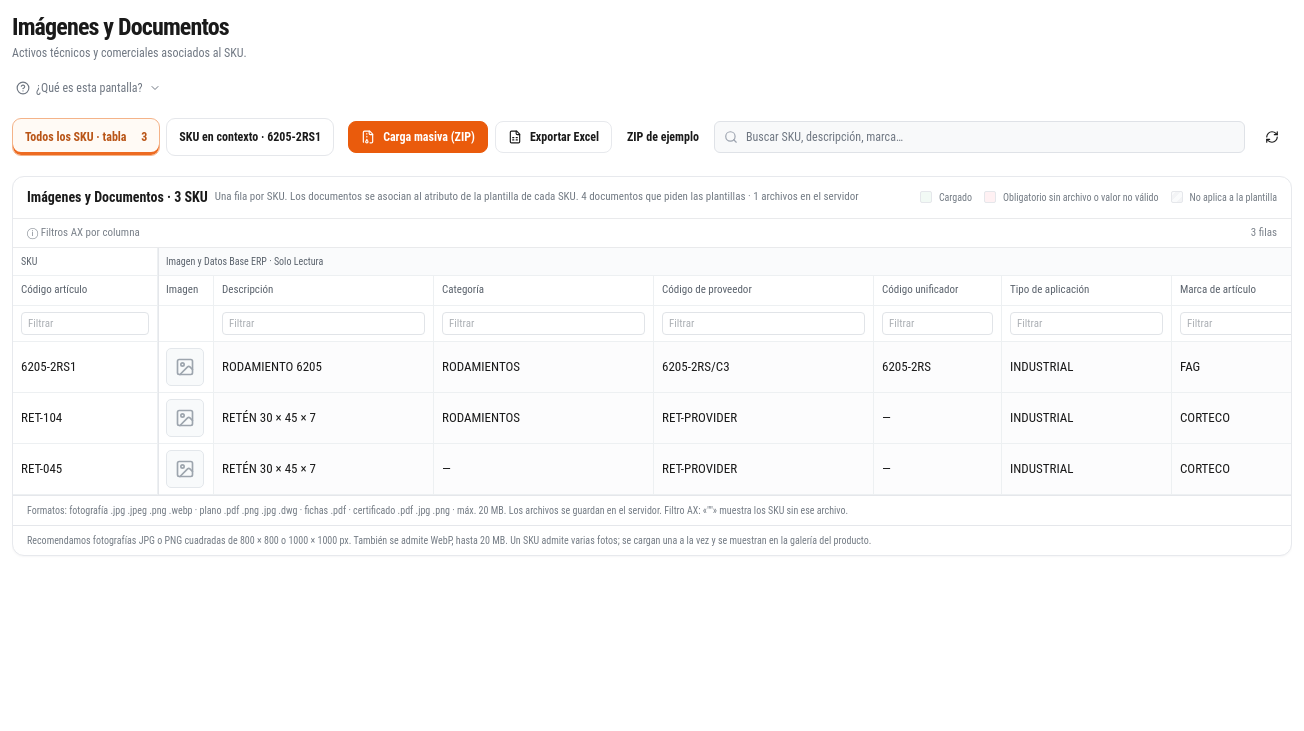
Test: DocumentsWorkspace › switches table and contextual slots without discarding the selected SKU or making extra catalog requests
Step 1. Click the tab "SKU en contexto · 6205-2RS1" → (250, 136), box x1=166 y1=118 x2=334 y2=156
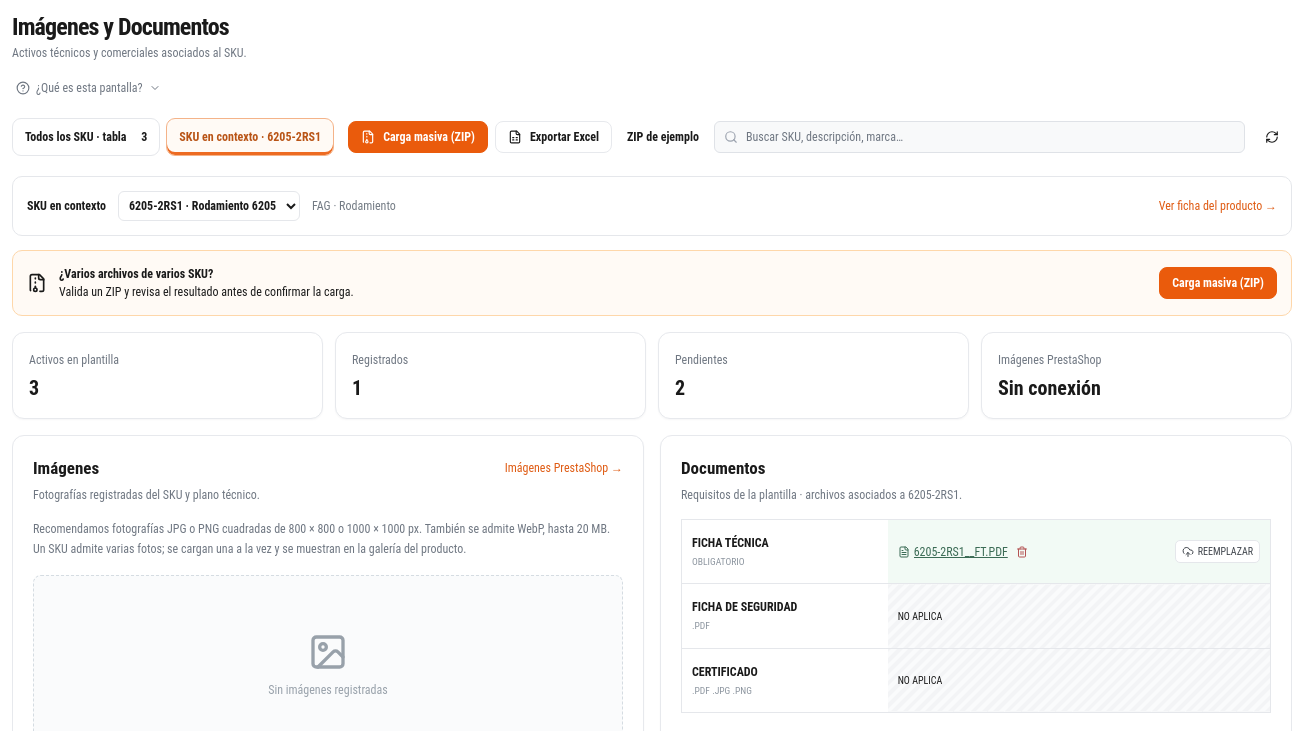
Step 2. Select "RET-104 · Retén 30 × 45 × 7" in the dropdown labelled "SKU en contexto" → (209, 206), box x1=118 y1=190 x2=300 y2=220
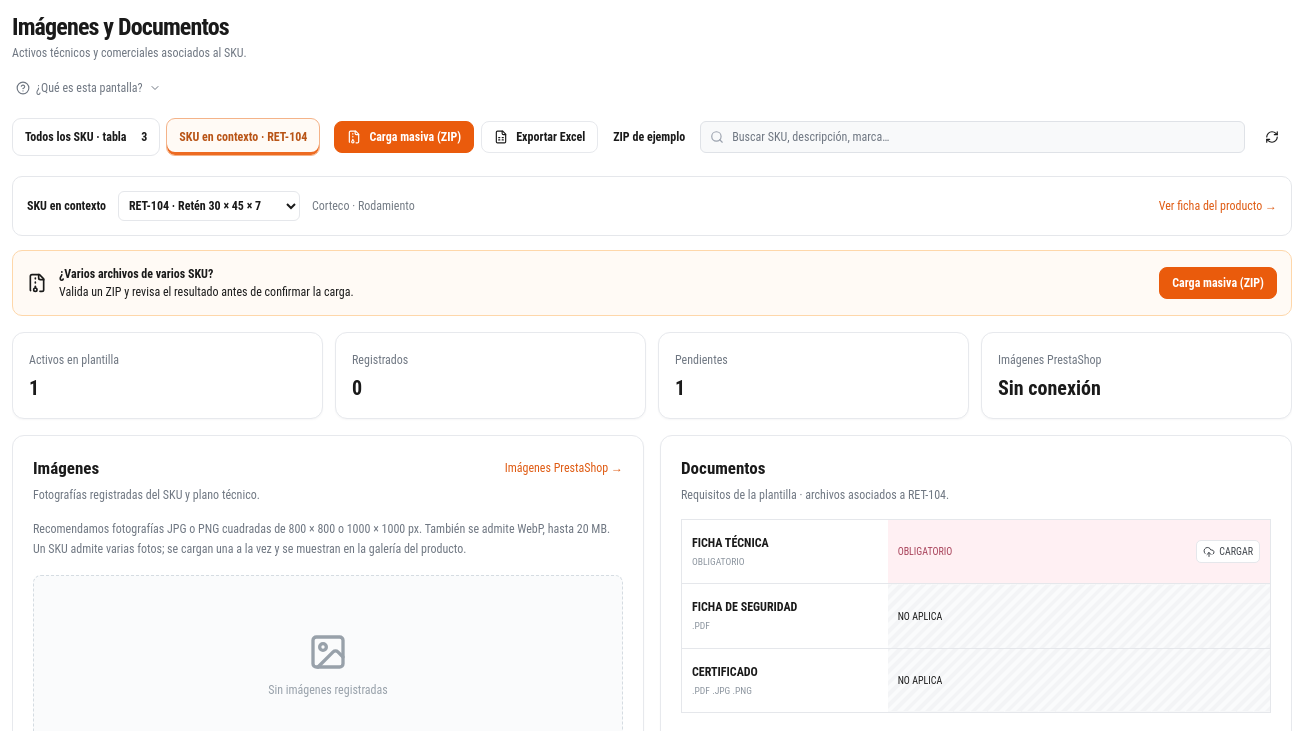
Step 3. Click the tab "Todos los SKU · tabla 3" → (86, 136), box x1=12 y1=118 x2=160 y2=156
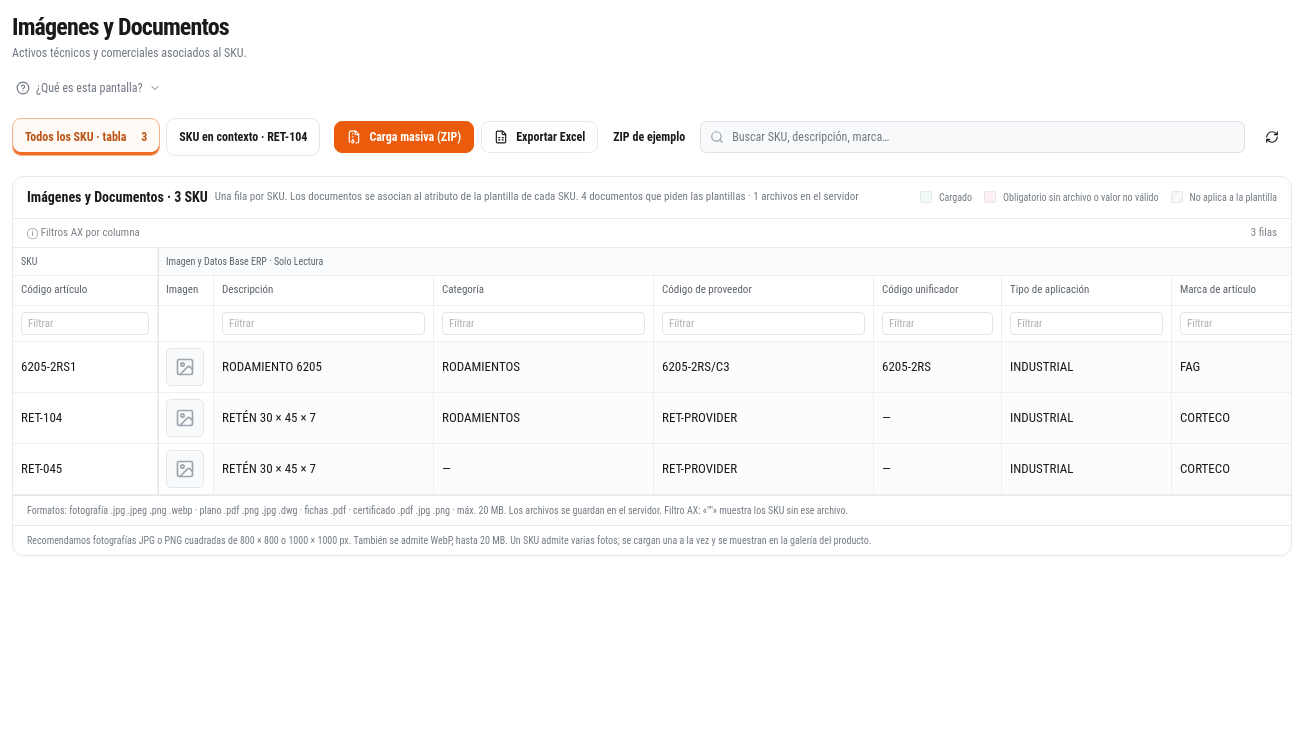
Step 4. Click the tab "SKU en contexto · RET-104" → (243, 136), box x1=166 y1=118 x2=320 y2=156
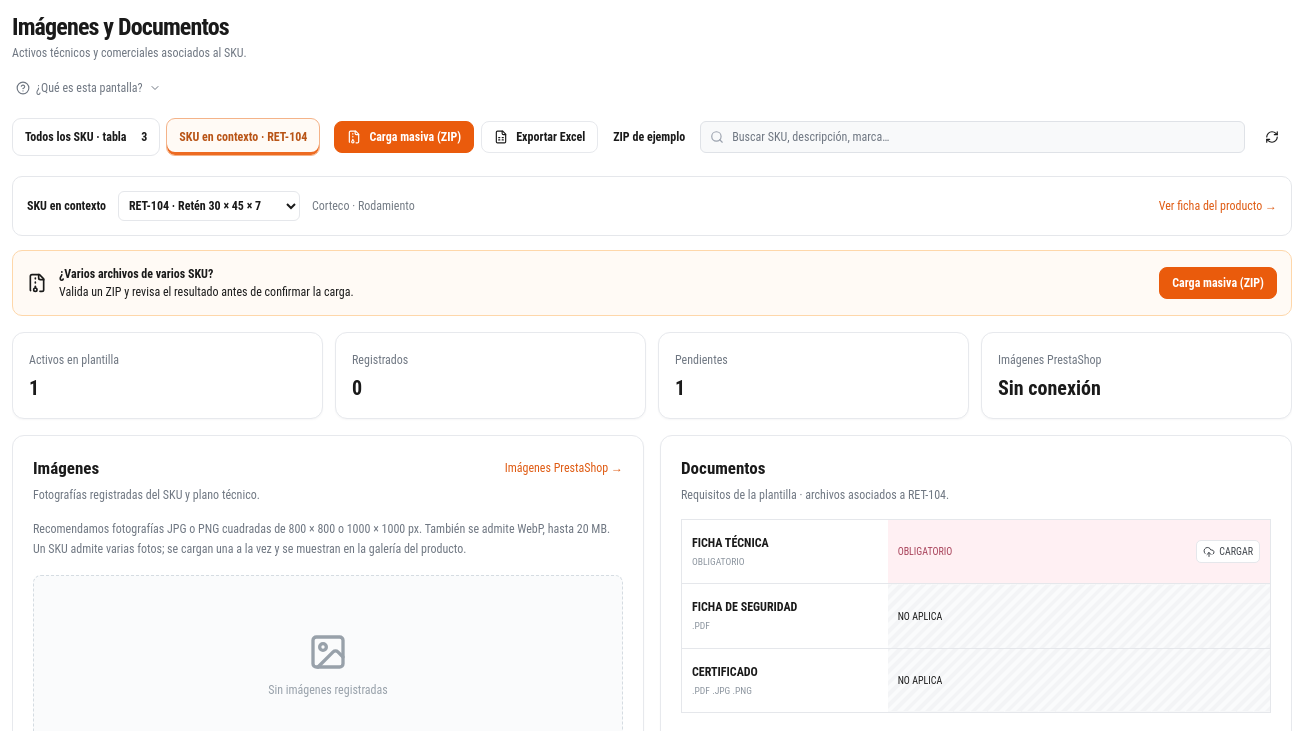
expect the dropdown labelled "SKU en contexto" shows "RET-104 · Retén 30 × 45 × 7": met, box x1=118 y1=190 x2=300 y2=220
